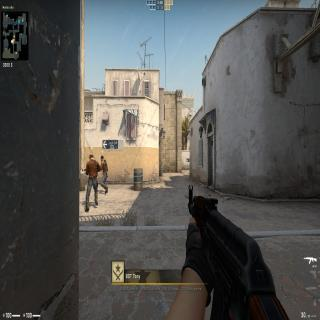T-Head: (88, 152, 95, 162), (100, 155, 104, 163)
